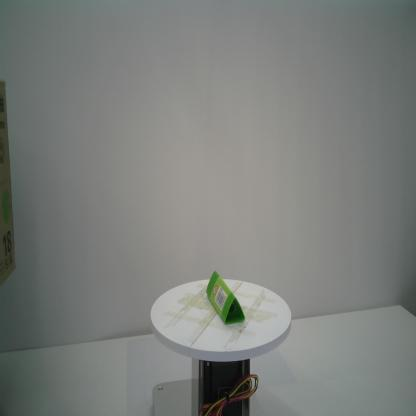Stationery: (204, 268, 246, 327)
